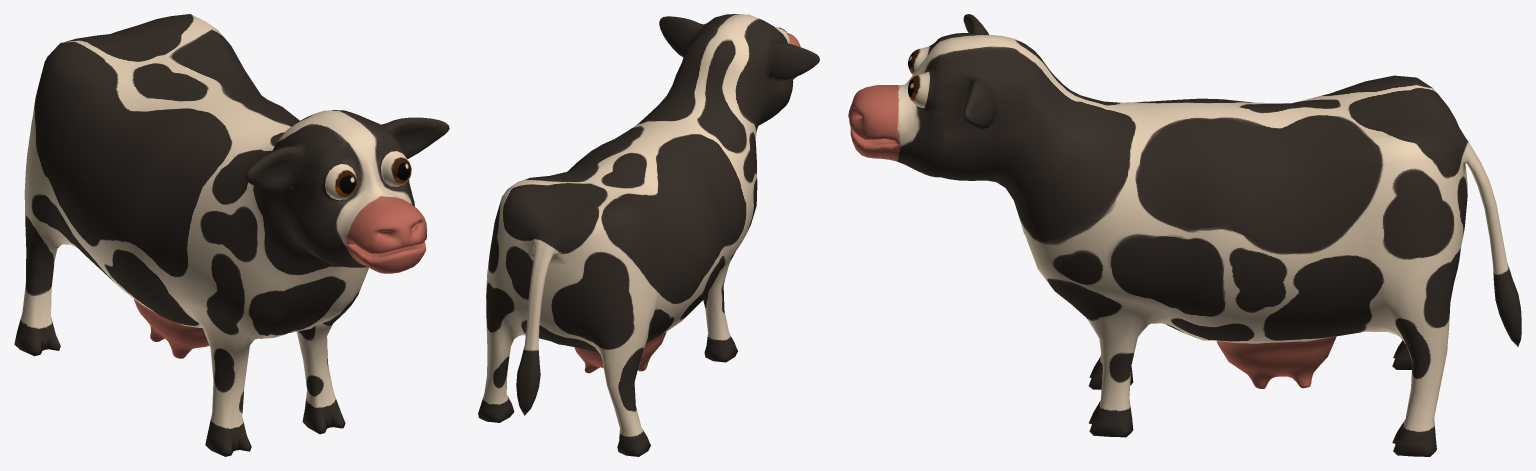
File: Cow.fbx
The picture shows the model from 3 angles, left to right: view 1: azimuth 30°, elevation 25°; view 2: azimuth 150°, elevation 25°; view 3: azimuth 270°, elevation 25°; orthographic projection. The views are drawn at different scales.
Parts seen in each view (by area): view 1: Cow; view 2: Cow; view 3: Cow.
Boxes of the visible parts, bbox=[...] form: Cow: bbox=[14, 14, 449, 456]; Cow: bbox=[478, 14, 819, 456]; Cow: bbox=[848, 14, 1521, 456].
Size of the model in its own units: 243 by 403 by 667.
